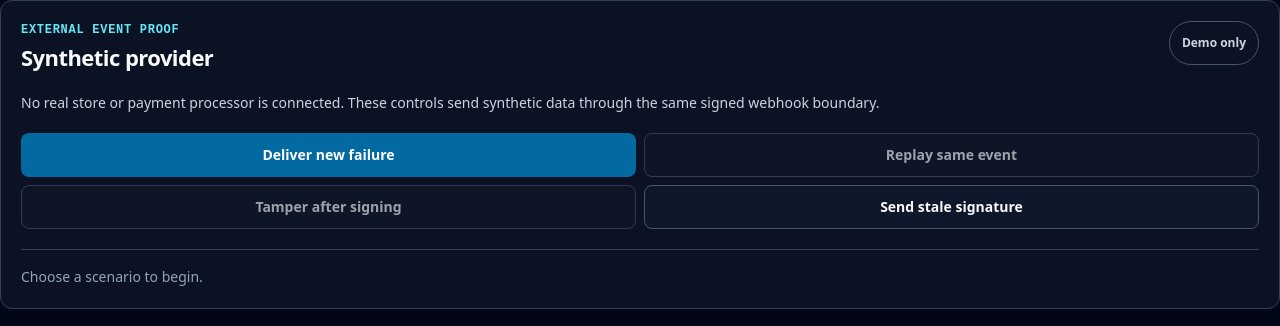
Test: SyntheticProviderPanel › shows the webhook_payload_invalid outcome without automatically resending
Click the button "Deliver new failure" at (328, 155), box [21, 133, 636, 177]
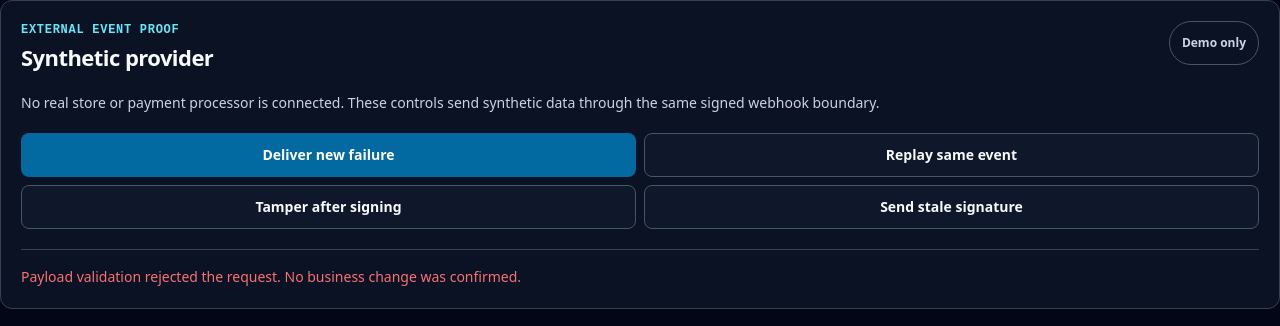
Now the message shows "Payload validation rejected", box [21, 267, 521, 286]
